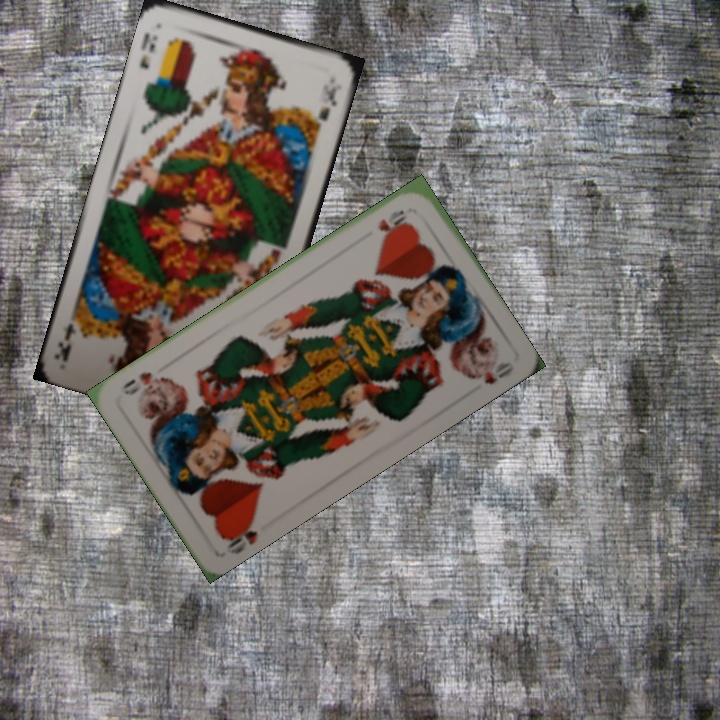EK: (135, 28, 160, 72)
HO: (217, 512, 260, 557), (374, 205, 412, 235)
